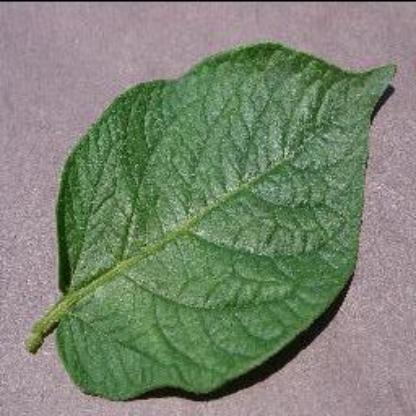Healthy-plant: (26, 35, 400, 406)
